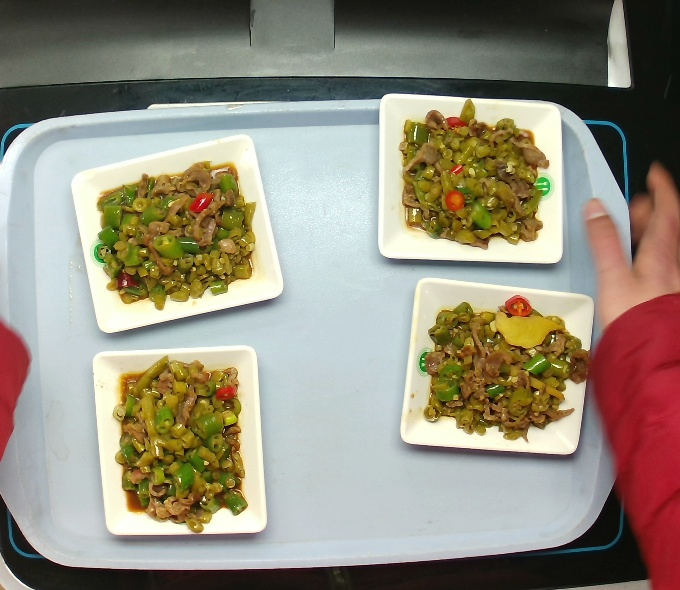wcq-SuanDouJiaoChaoJiZhen: (85, 159, 270, 314), (108, 352, 257, 534), (385, 102, 553, 255), (414, 295, 582, 448)
